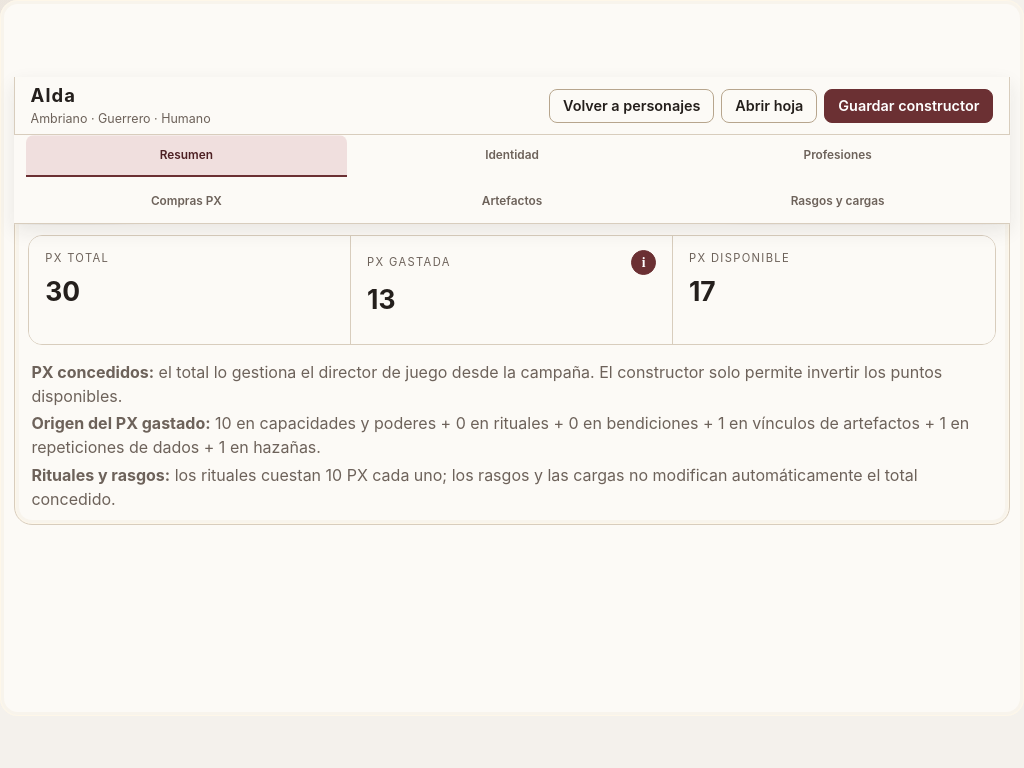
opens an auditable XP expense detail with capabilities, artifacts and dated rerolls
Click the button named "Ver detalle de PX gastada". click: [644, 262]
box: [631, 250, 656, 275]
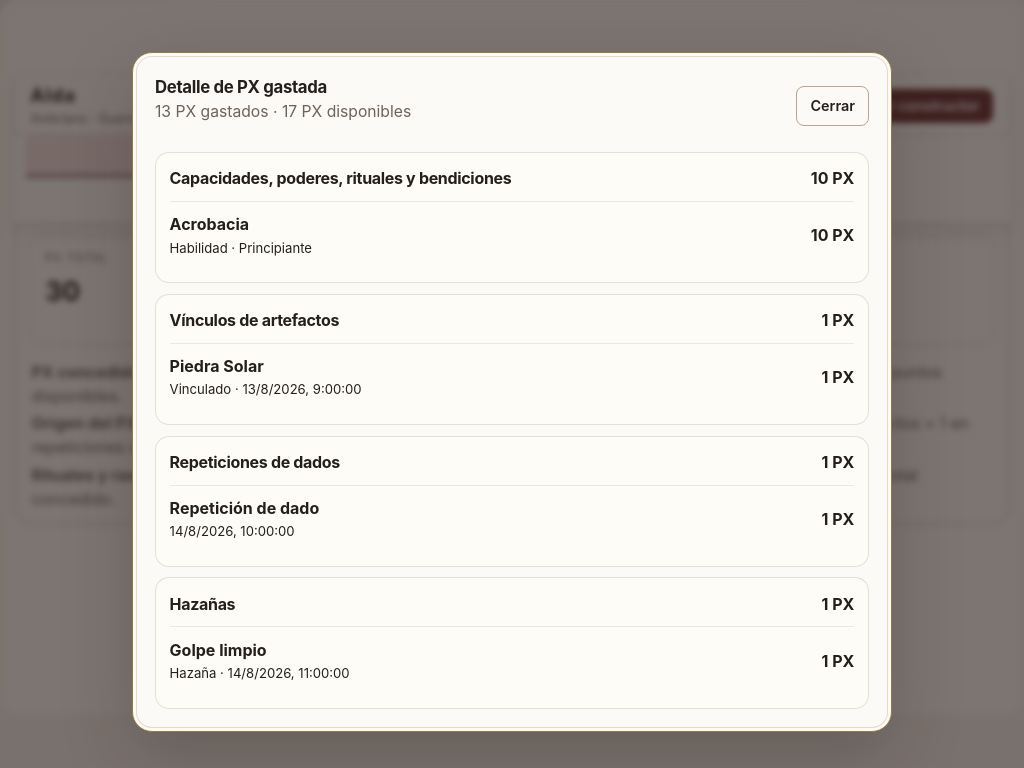
Now the dialog "Detalle de PX gastada" shows "Acrobacia", box [170, 214, 249, 234]
Now the dialog "Detalle de PX gastada" shows "Habilidad · Principiante"
Now the dialog "Detalle de PX gastada" shows "Piedra Solar", box [170, 356, 264, 376]
